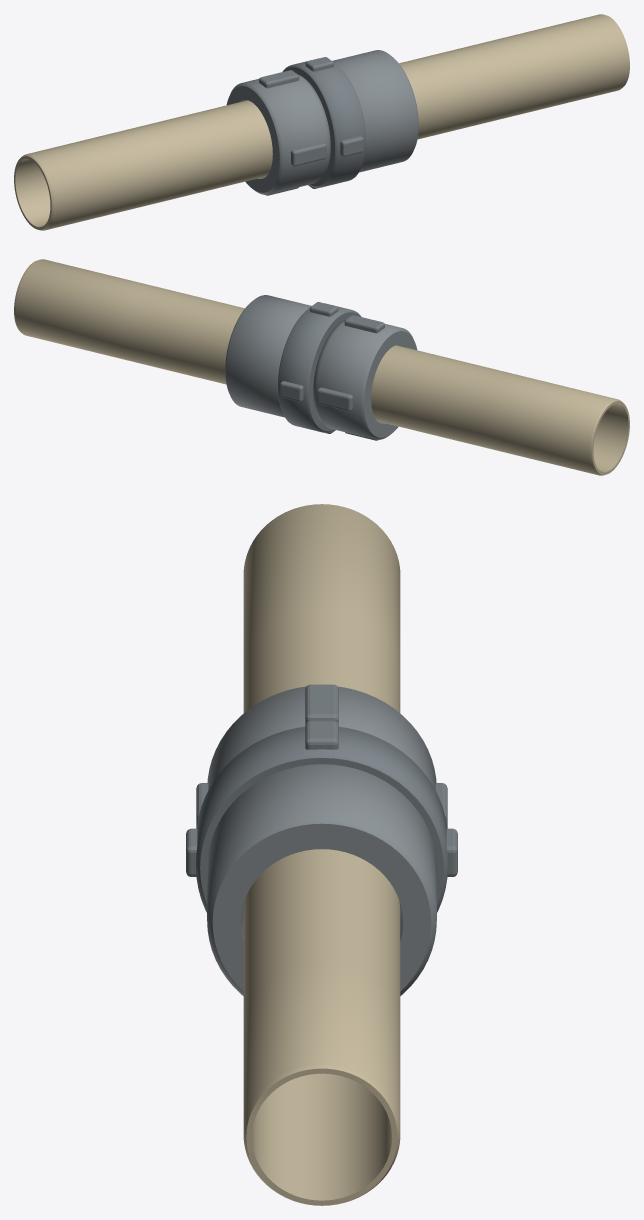
The model's file is linea-acoplada.glb.
The picture shows the model from 3 angles, top to bottom: view 1: azimuth 30°, elevation 25°; view 2: azimuth 150°, elevation 25°; view 3: azimuth 270°, elevation 25°; orthographic projection. The views are drawn at different scales.
Parts seen in each view (by area): view 1: Linea_Macho_Manguera, Linea_Hembra_Manguera, Macho_Cuerpo.001, Hembra_Cuerpo.001, Hembra_Collar_giratorio.001, Acople_Macho_Saliente_4.001, Acople_Macho_Saliente_3.001, Acople_Hembra_Saliente_4.001; view 2: Linea_Macho_Manguera, Linea_Hembra_Manguera, Macho_Cuerpo.001, Hembra_Cuerpo.001, Hembra_Collar_giratorio.001, Acople_Macho_Saliente_2.001, Acople_Macho_Saliente_3.001, Acople_Hembra_Saliente_2.001; view 3: Linea_Hembra_Manguera, Linea_Macho_Manguera, Hembra_Cuerpo.001, Hembra_Collar_giratorio.001, Macho_Cuerpo.001, Acople_Macho_Saliente_3.001, Acople_Hembra_Saliente_1.001.
Part boxes in pixels (left/top/right/bottom): Linea_Macho_Manguera: left=14, top=100, right=272, bottom=230; Linea_Hembra_Manguera: left=399, top=14, right=629, bottom=139; Macho_Cuerpo.001: left=226, top=75, right=330, bottom=194; Hembra_Cuerpo.001: left=332, top=50, right=418, bottom=172; Hembra_Collar_giratorio.001: left=282, top=58, right=365, bottom=187; Acople_Macho_Saliente_4.001: left=290, top=142, right=326, bottom=166; Acople_Macho_Saliente_3.001: left=259, top=70, right=299, bottom=88; Acople_Hembra_Saliente_4.001: left=340, top=136, right=363, bottom=156; Linea_Macho_Manguera: left=371, top=345, right=629, bottom=475; Linea_Hembra_Manguera: left=14, top=259, right=244, bottom=384; Macho_Cuerpo.001: left=313, top=320, right=417, bottom=439; Hembra_Cuerpo.001: left=225, top=295, right=311, bottom=417; Hembra_Collar_giratorio.001: left=278, top=303, right=361, bottom=432; Acople_Macho_Saliente_2.001: left=317, top=387, right=353, bottom=411; Acople_Macho_Saliente_3.001: left=344, top=315, right=384, bottom=333; Acople_Hembra_Saliente_2.001: left=280, top=381, right=303, bottom=401; Linea_Hembra_Manguera: left=243, top=849, right=400, bottom=1205; Linea_Macho_Manguera: left=243, top=504, right=400, bottom=712; Hembra_Cuerpo.001: left=207, top=764, right=436, bottom=995; Hembra_Collar_giratorio.001: left=196, top=727, right=447, bottom=912; Macho_Cuerpo.001: left=207, top=686, right=436, bottom=789; Acople_Macho_Saliente_3.001: left=305, top=684, right=338, bottom=724; Acople_Hembra_Saliente_1.001: left=305, top=720, right=338, bottom=749.
Size of the model in its own units: 0.4765 by 0.097 by 0.097.
